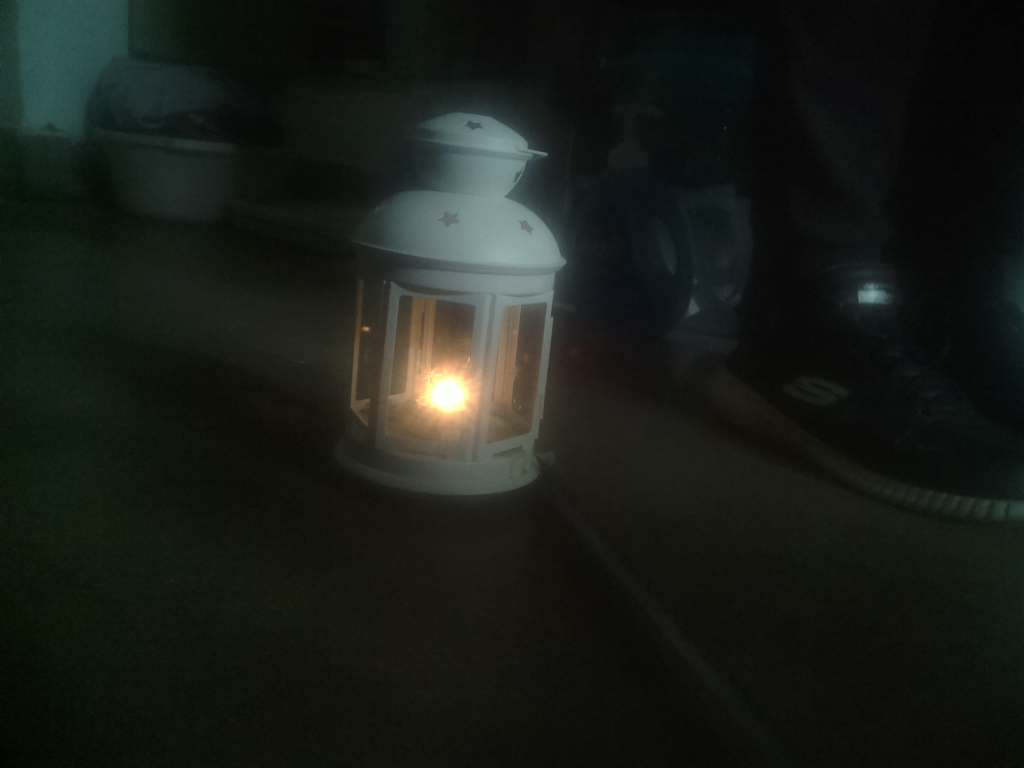fire: (399, 356, 504, 452)
